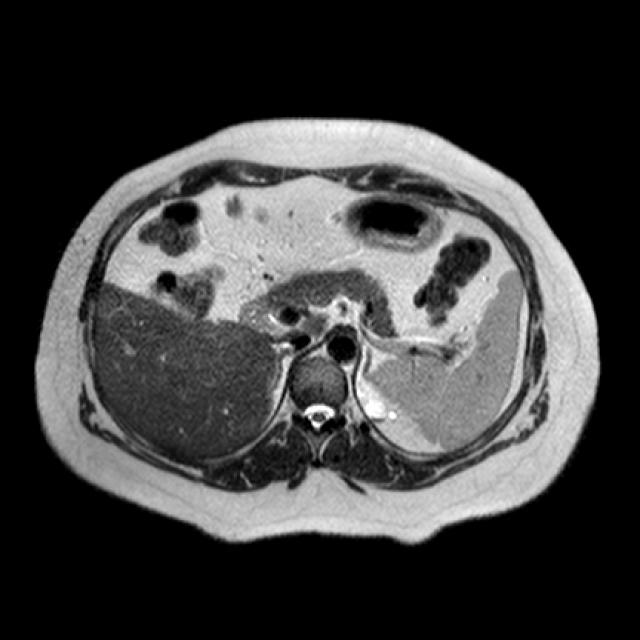sol: (357, 378, 398, 426)
